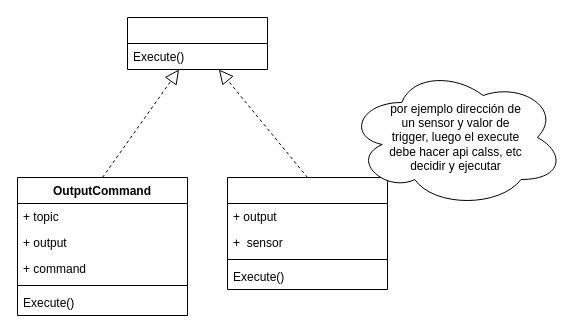
Image size: 582x336. Some labels were removed from this diagram. The shapes that lost their labels are listed below. From the top down, each one's box as (x1, y1, x2, y2) in pixels, then its label:
(126, 16, 268, 70): Task
(226, 176, 388, 290): ConditionalCommand
